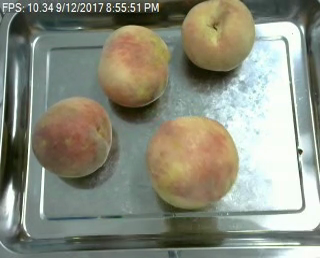Peach: (147, 115, 239, 207), (32, 96, 112, 178), (98, 24, 170, 107), (181, 0, 255, 72)
